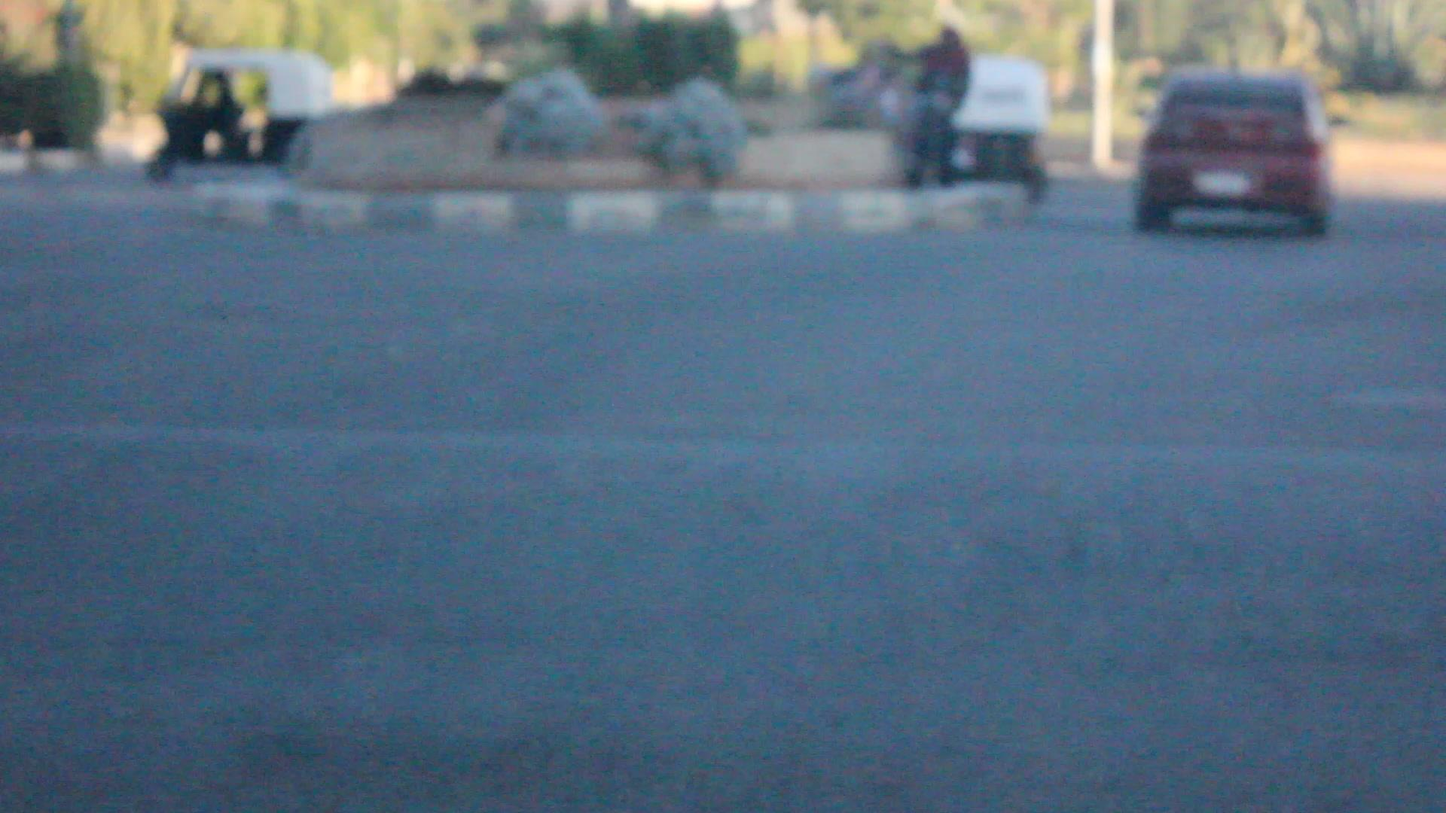Bump: (0, 428, 1445, 692)
